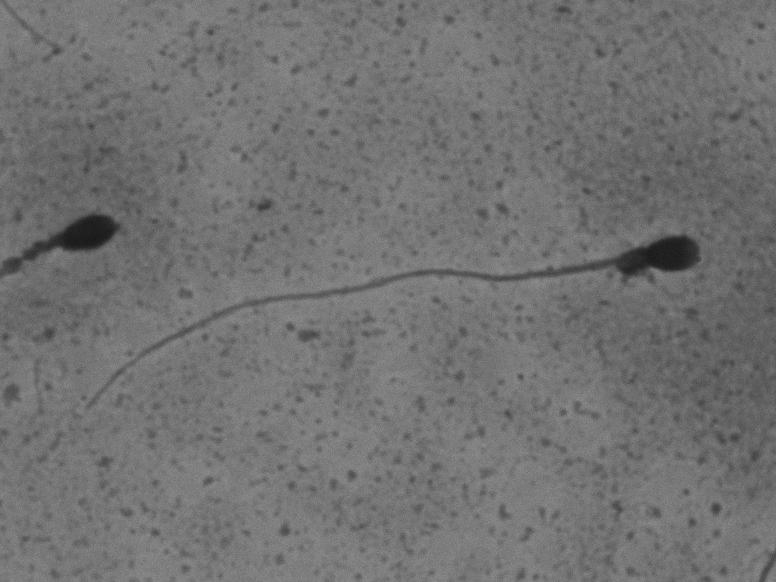Abnormal: (128, 223, 731, 382)
